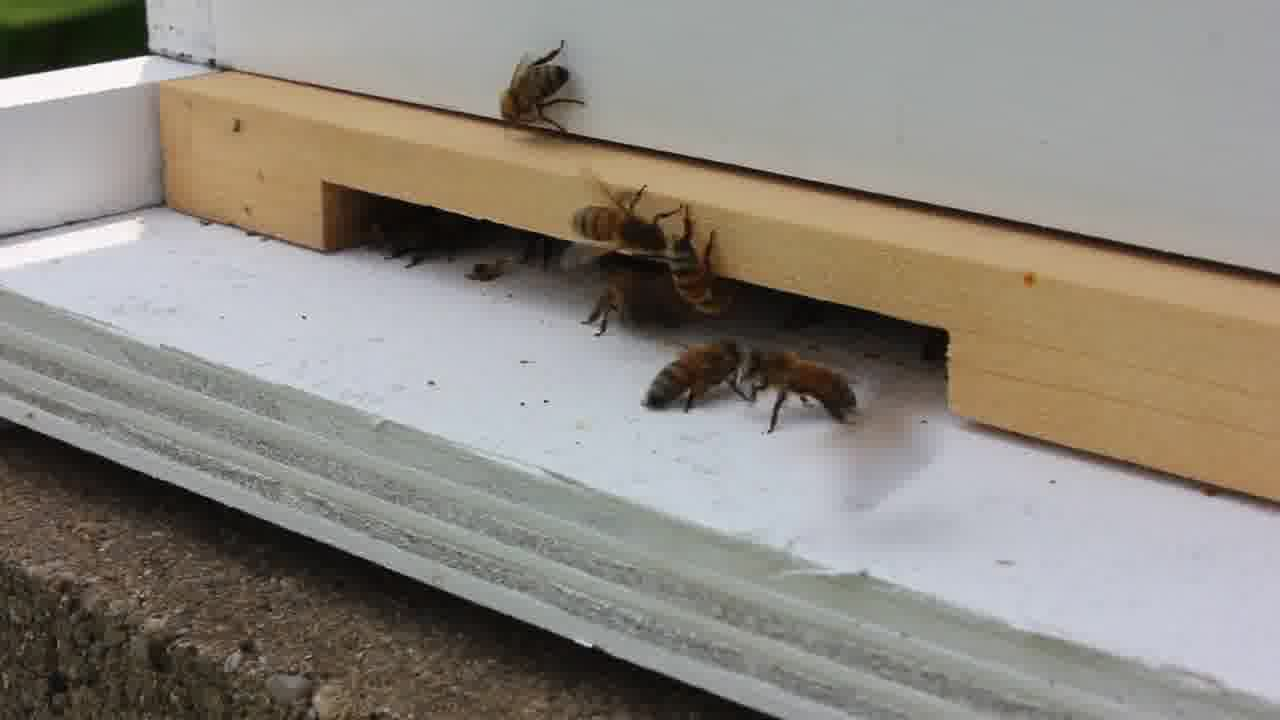pollen: (641, 338, 750, 410)
